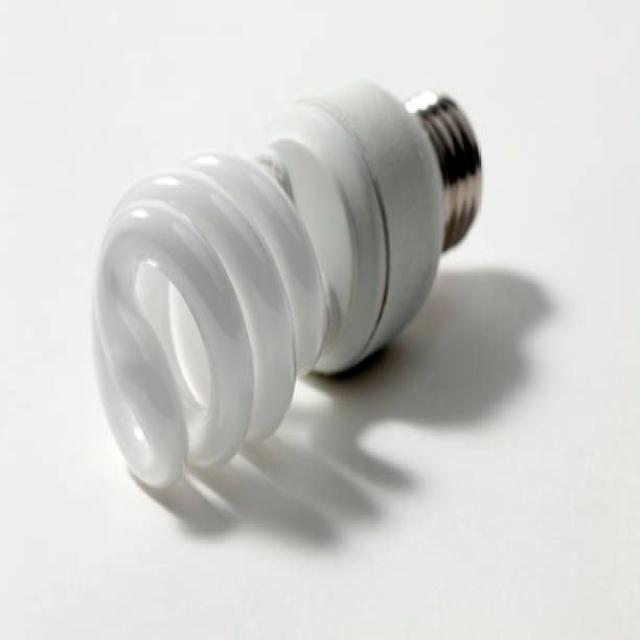electronic: (90, 75, 483, 494)
